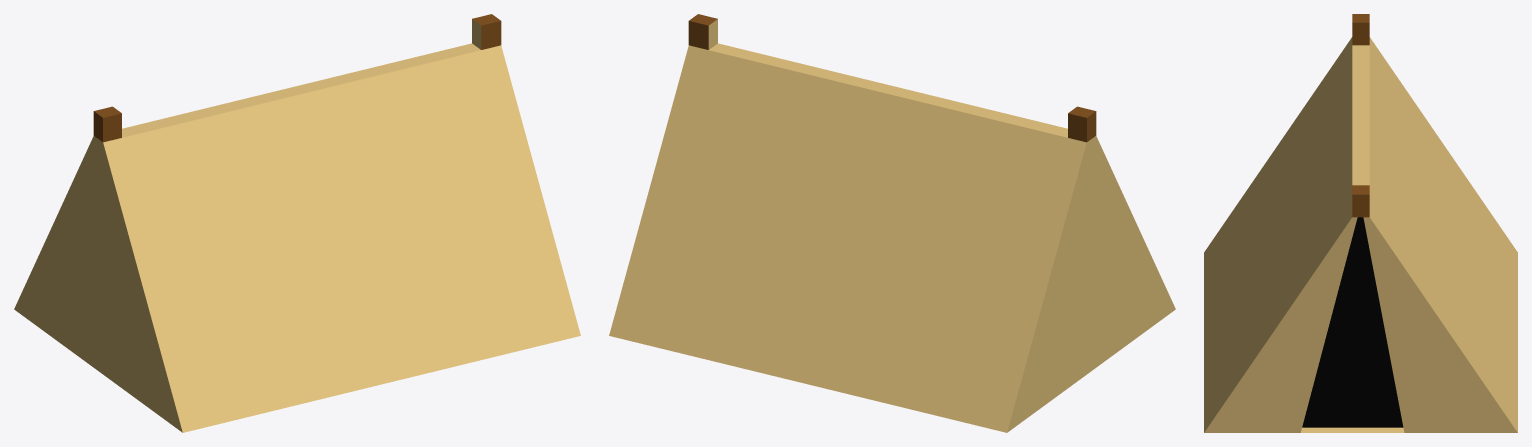
File: Tent.fbx
3 views of the same model, side by side, from view 1: azimuth 30°, elevation 25°; view 2: azimuth 150°, elevation 25°; view 3: azimuth 270°, elevation 25° (orthographic). The views are drawn at different scales.
Visible parts, largest first — view 1: Tent; view 2: Tent; view 3: Tent.
Boxes of the visible parts, <box> form: Tent: <box>14,14,580,432</box>; Tent: <box>609,14,1175,432</box>; Tent: <box>1204,14,1517,432</box>.
Size of the model in its own units: 9.5 by 5.85 by 6.98.
